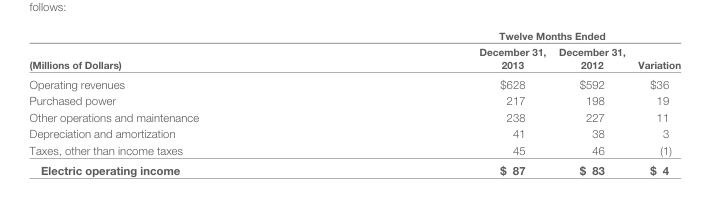table: (28, 28, 680, 176)
table column: (28, 28, 338, 176), (338, 28, 551, 176), (551, 28, 631, 176), (631, 28, 680, 176)
table column header: (28, 28, 680, 73)
table row: (28, 43, 680, 73), (28, 73, 680, 91), (28, 141, 680, 159), (28, 91, 680, 108), (28, 124, 680, 141), (28, 159, 680, 176), (28, 108, 680, 124), (28, 28, 680, 43)
table spanning cell: (28, 28, 338, 73), (338, 28, 631, 43), (631, 28, 680, 73)
